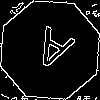A: (25, 25, 76, 81)
